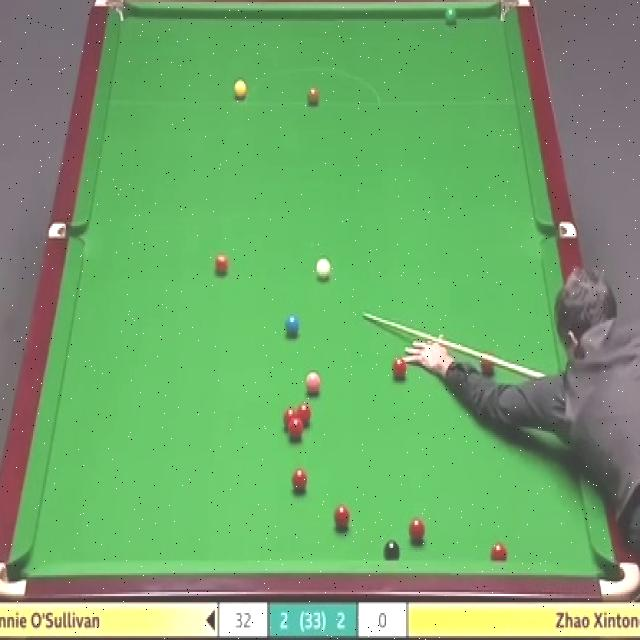black-ball: (381, 539, 400, 563)
blue-ball: (283, 314, 300, 340)
brown-ball: (305, 84, 320, 108)
green-ball: (444, 6, 460, 26)
pink-ball: (304, 369, 320, 397)
red-ball: (391, 354, 409, 384), (331, 504, 350, 532), (291, 468, 308, 497), (408, 518, 424, 546), (212, 252, 229, 278), (480, 350, 496, 376), (297, 404, 312, 429), (491, 541, 508, 562), (289, 421, 303, 441), (283, 408, 297, 428)
white-ball: (313, 255, 332, 284)
yellow-ball: (232, 78, 246, 100)
